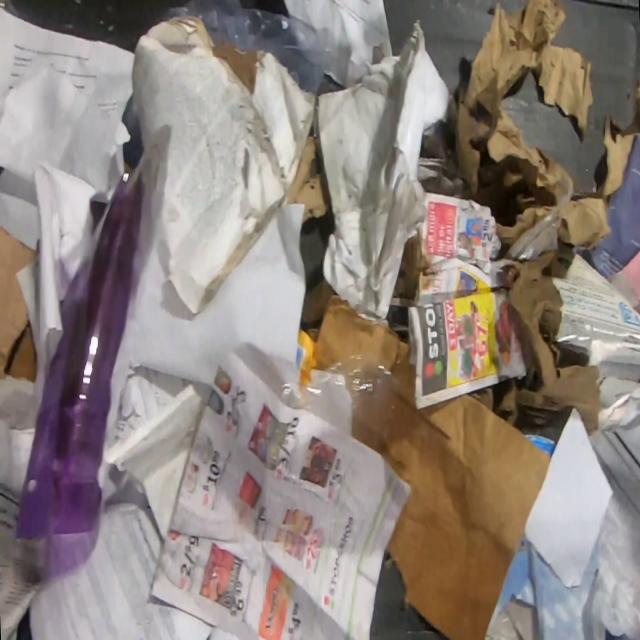cardboard: (313, 291, 552, 640), (468, 239, 600, 436), (0, 224, 38, 382), (285, 134, 328, 224), (300, 276, 336, 342)
soft_plastic: (12, 172, 144, 540), (160, 0, 334, 94), (269, 352, 399, 455), (501, 174, 574, 262)
